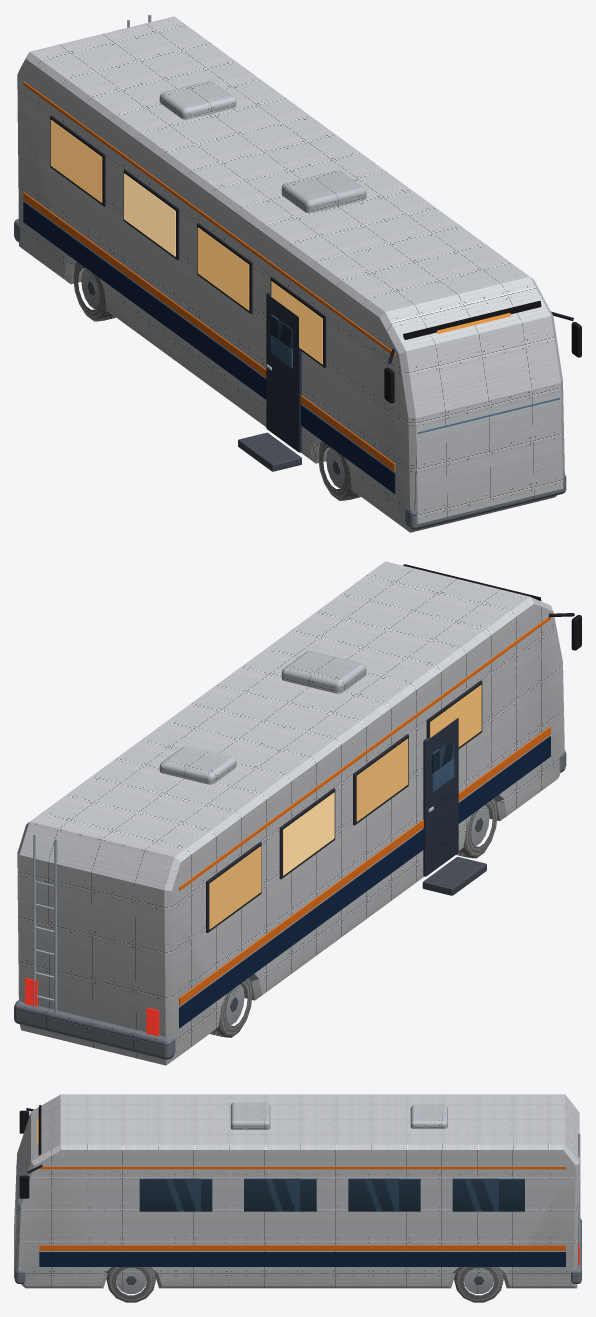
File: motorhome.glb
3 renders of one model, top to bottom at view 1: azimuth 30°, elevation 25°; view 2: azimuth 150°, elevation 25°; view 3: azimuth 270°, elevation 25°, orthographic. The views are drawn at different scales.
Parts seen in each view (by area): view 1: motorhome_metal, motorhome; view 2: motorhome_metal, motorhome; view 3: motorhome_metal, motorhome.
Boxes of the visible parts, x1=… form: motorhome_metal: x1=14, y1=16, x2=566, y2=532; motorhome: x1=23, y1=15, x2=581, y2=500; motorhome_metal: x1=14, y1=561, x2=566, y2=1065; motorhome: x1=25, y1=564, x2=581, y2=1037; motorhome_metal: x1=14, y1=1094, x2=581, y2=1293; motorhome: x1=16, y1=1105, x2=580, y2=1302.
Bounding box in the file's own units: 3.36 × 3.69 × 11.44.
6 materials, 4 textured.
